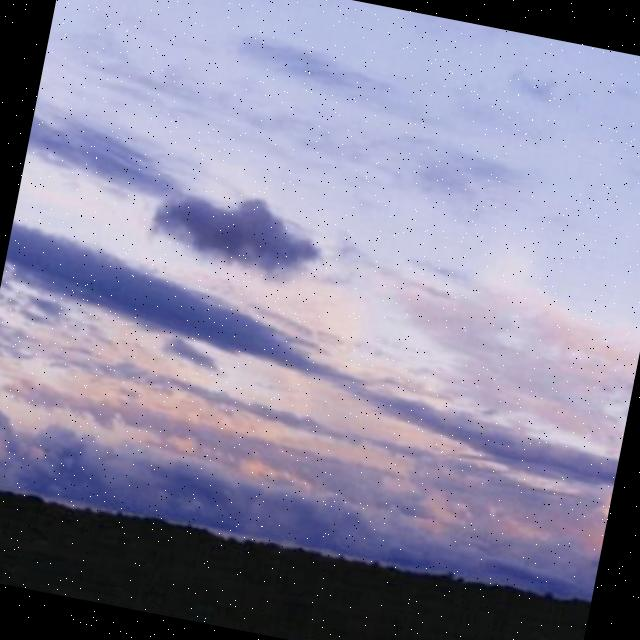St: (1, 148, 640, 499)
